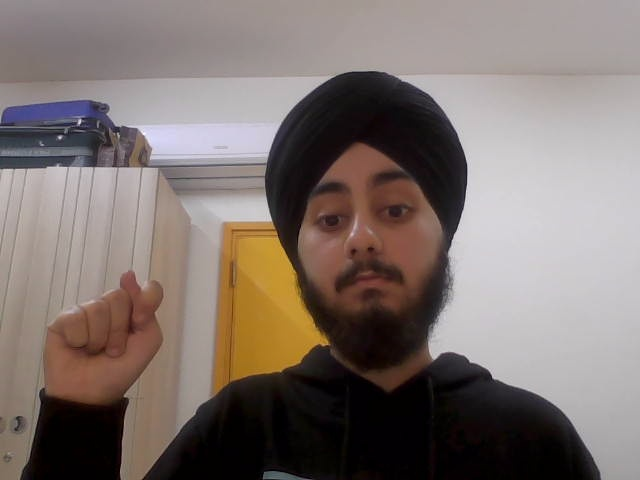Bathroom: (40, 267, 166, 401)
